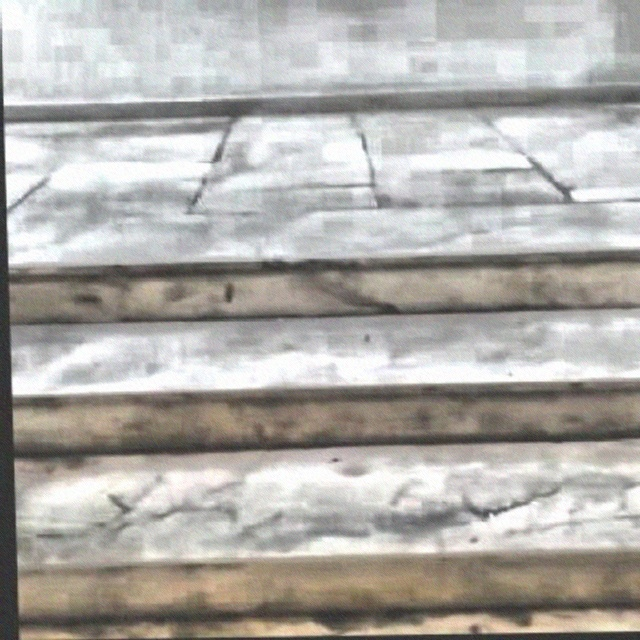stair: (5, 243, 639, 640)
